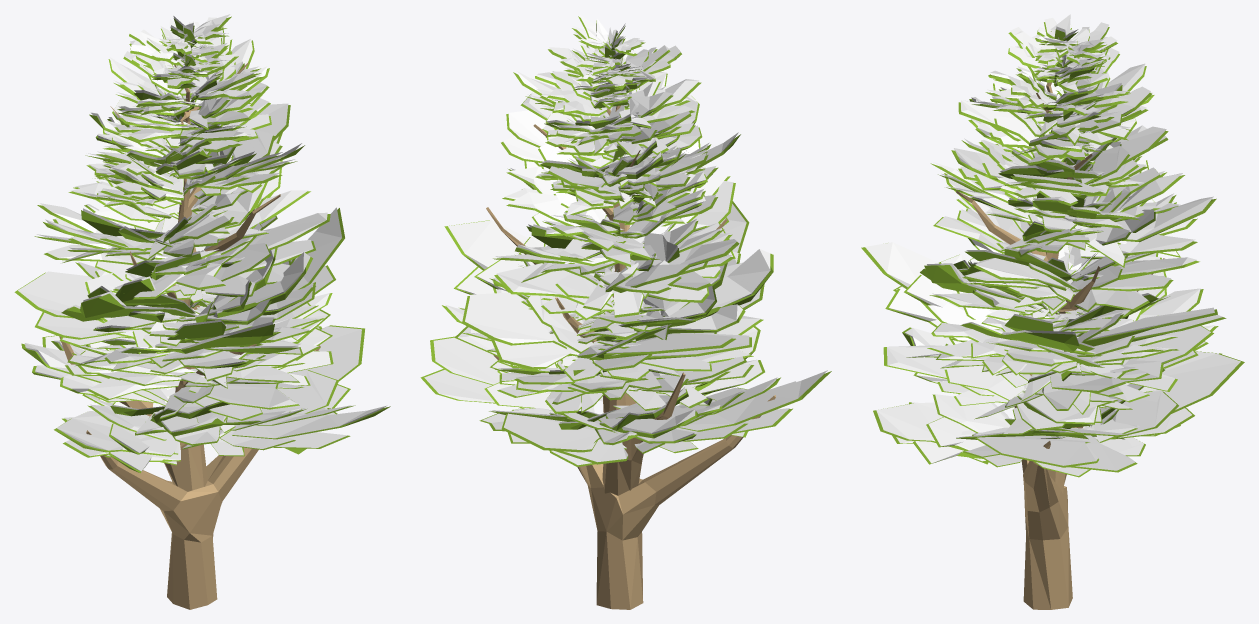
File: SnowtulipB.fbx
3 renders of one model, left to right at view 1: azimuth 30°, elevation 25°; view 2: azimuth 150°, elevation 25°; view 3: azimuth 270°, elevation 25°, orthographic.
Parts seen in each view (by area): view 1: leaves.007, leaves.006, trunk.003; view 2: leaves.007, leaves.006, trunk.003; view 3: leaves.007, leaves.006, trunk.003.
Part boxes in pixels (x1=…): leaves.007: x1=18, y1=14, x2=386, y2=471; leaves.006: x1=14, y1=16, x2=390, y2=473; trunk.003: x1=59, y1=63, x2=320, y2=609; leaves.007: x1=424, y1=14, x2=827, y2=465; leaves.006: x1=420, y1=16, x2=831, y2=466; trunk.003: x1=486, y1=105, x2=775, y2=609; leaves.007: x1=865, y1=14, x2=1240, y2=475; leaves.006: x1=861, y1=22, x2=1244, y2=477; trunk.003: x1=956, y1=82, x2=1164, y2=609.
Bounding box in the file's own units: 535 × 869 × 517.
